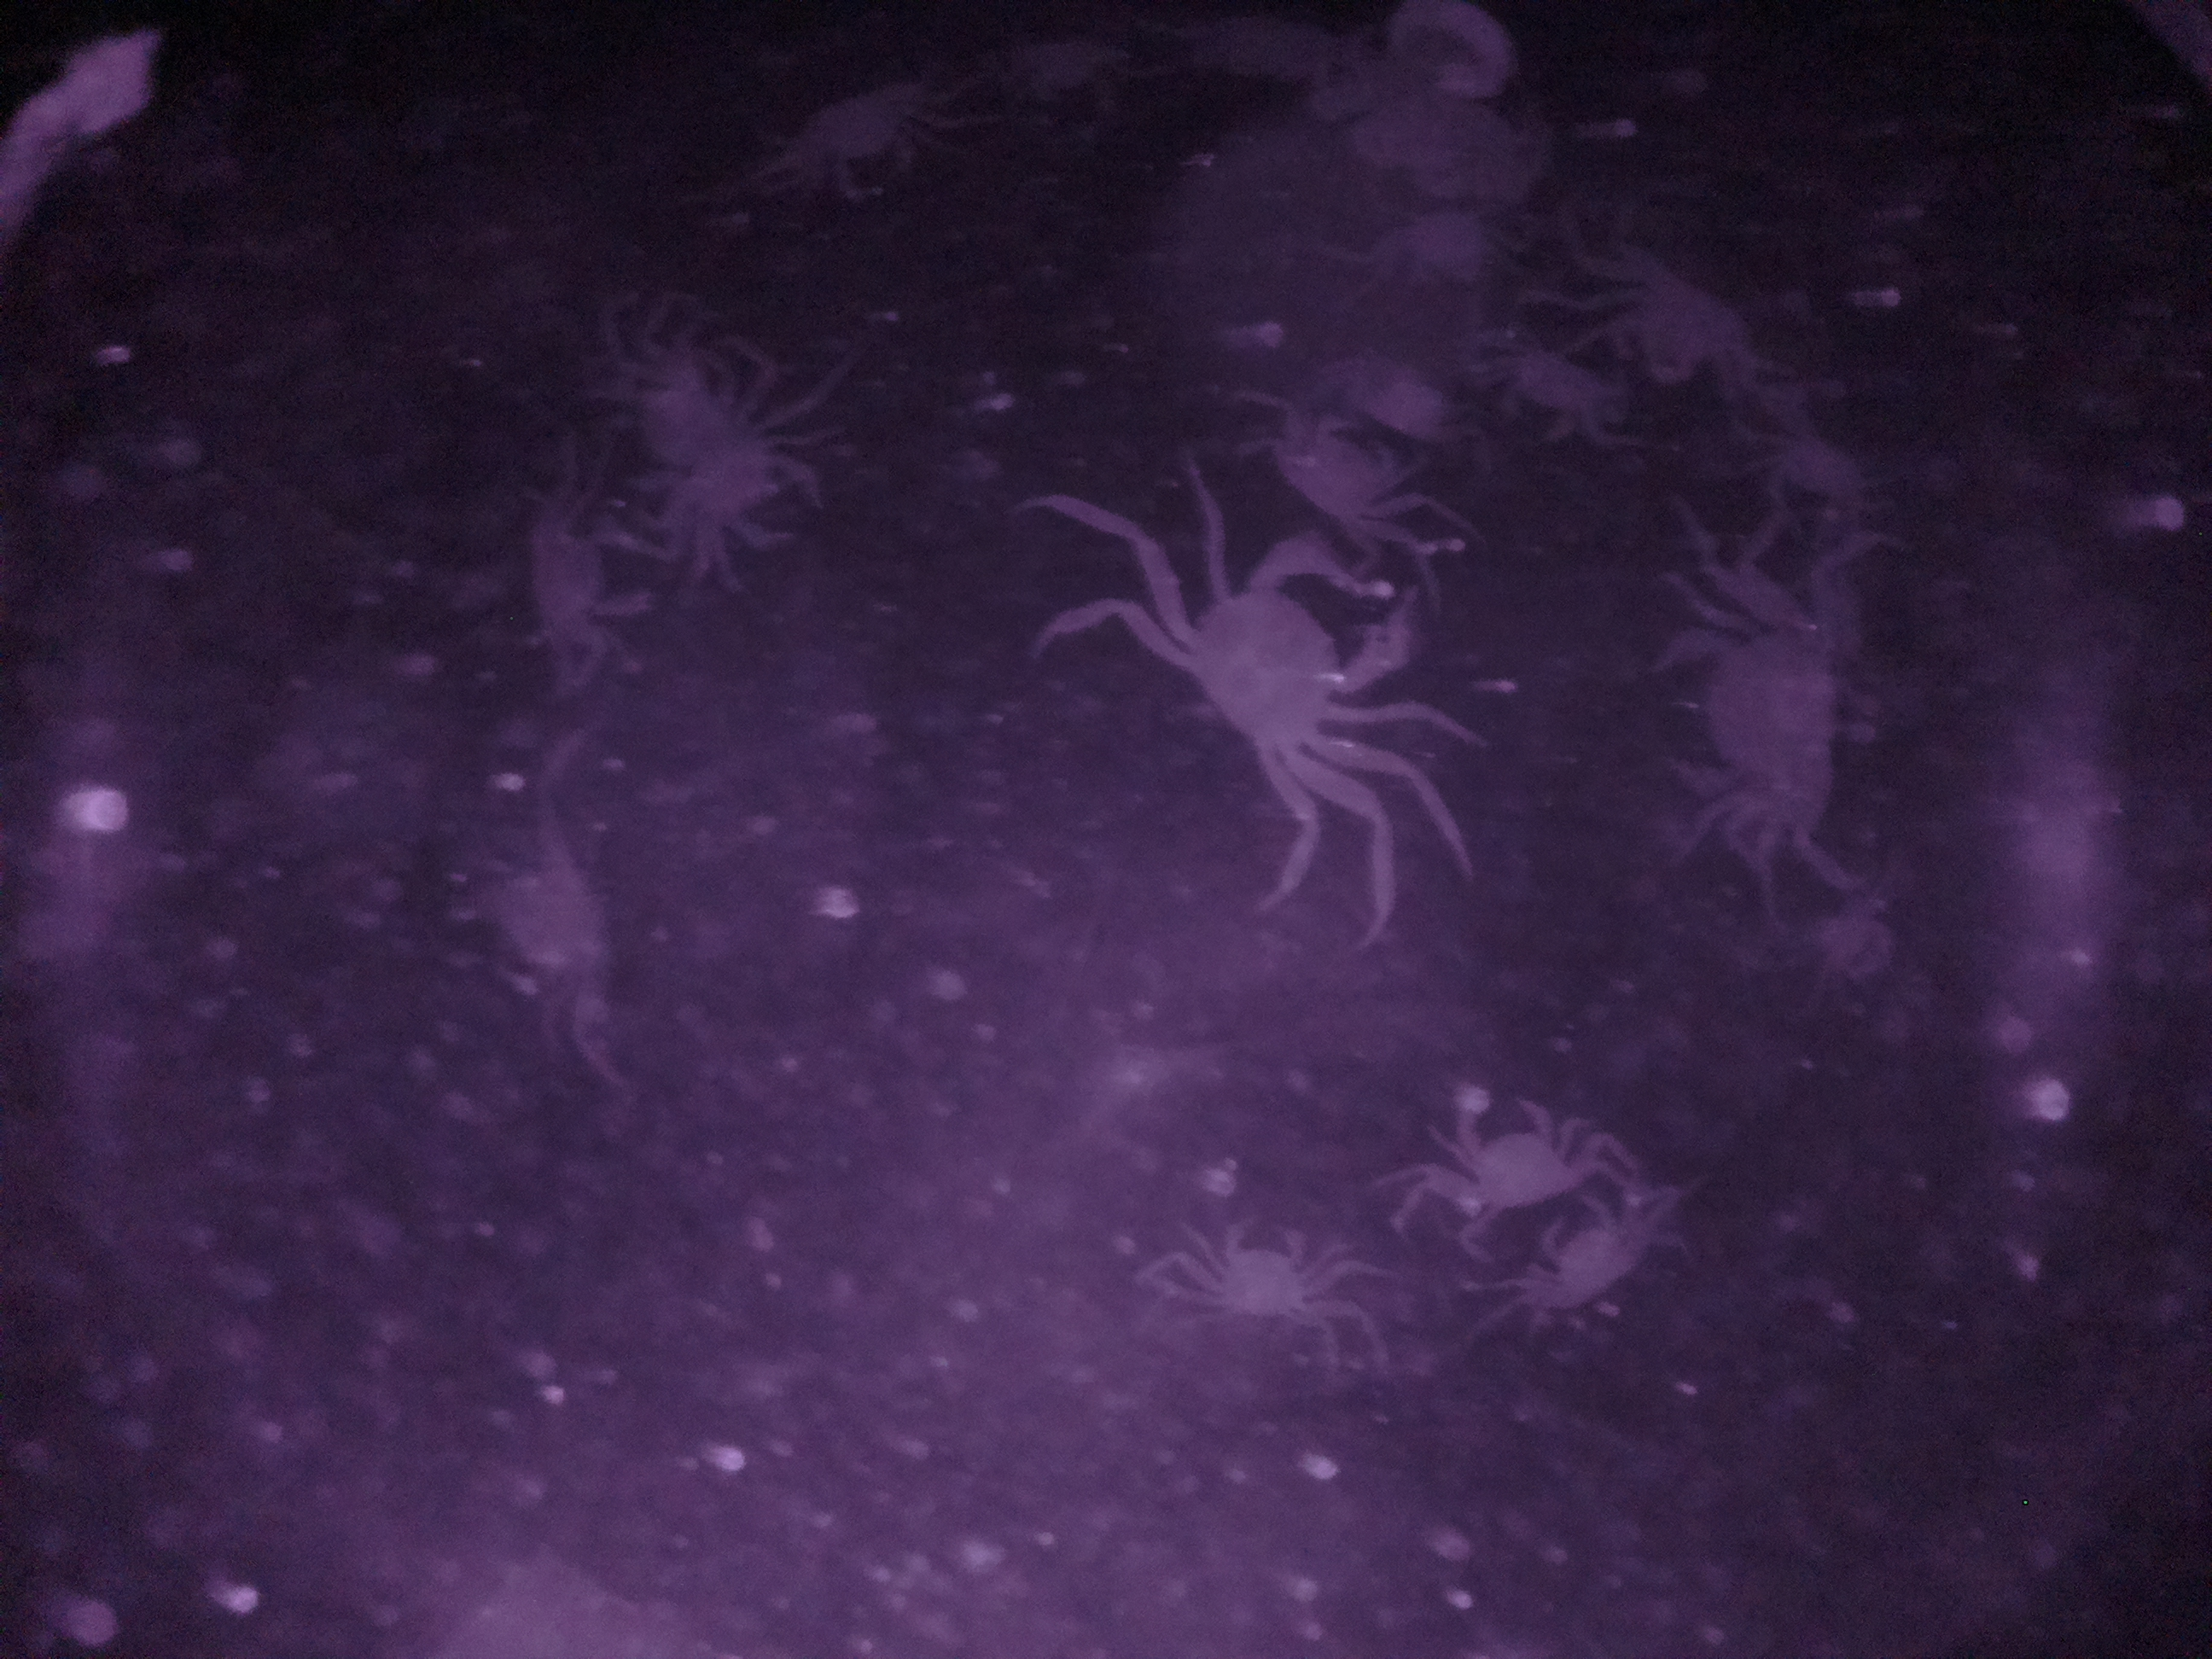Crab: (1150, 533, 1414, 823), (1646, 575, 1864, 843), (1413, 1073, 1585, 1229), (1177, 1202, 1338, 1347)
